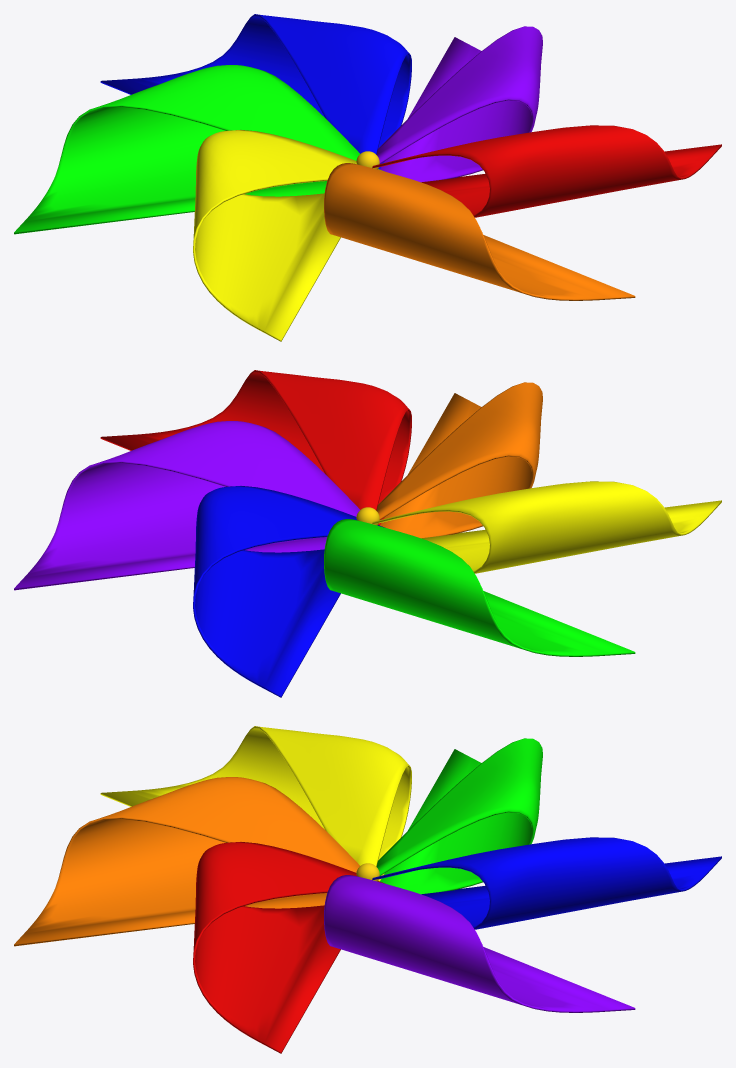
Rendered from girandola2.fbx.
3 views of the same model, one above another, from view 1: azimuth 30°, elevation 25°; view 2: azimuth 150°, elevation 25°; view 3: azimuth 270°, elevation 25° (orthographic).
Visible parts, largest first — view 1: Girandole; view 2: Girandole; view 3: Girandole.
Part boxes in pixels (x1,y1,x2,y2): Girandole: (14,14,721,341); Girandole: (14,370,721,697); Girandole: (14,726,721,1053).
Size of the model in its own units: 6670 by 1312 by 6583.
